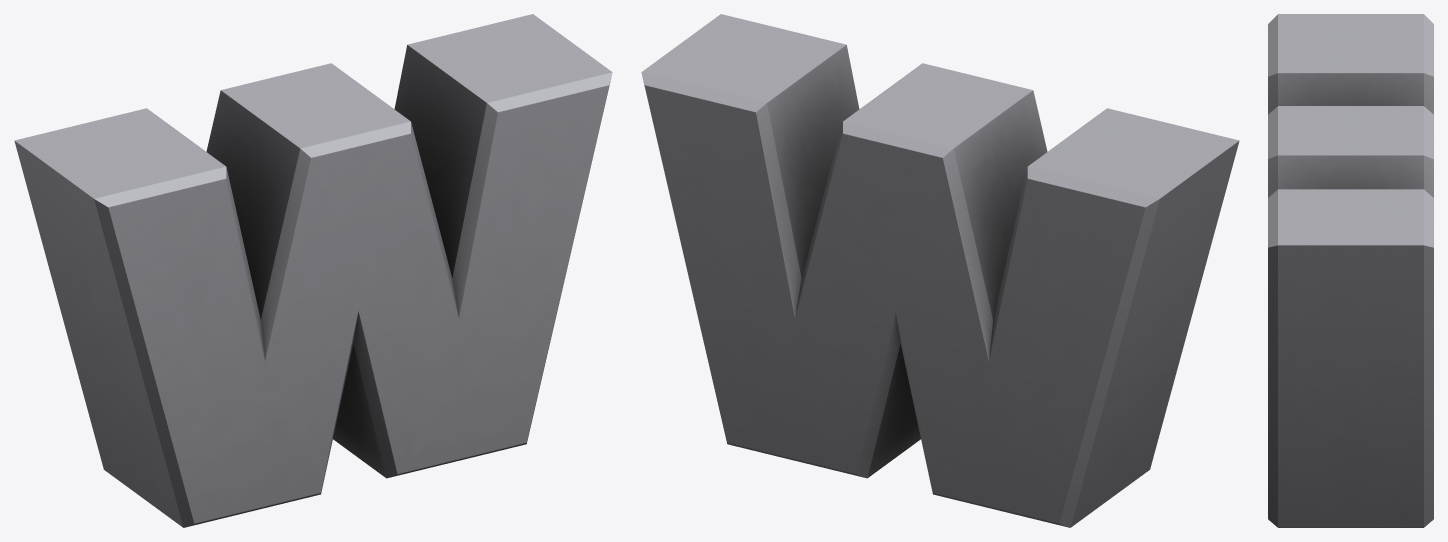
Rendered from w_lowc_static.fbx.
3 views of the same model, side by side, from view 1: azimuth 30°, elevation 25°; view 2: azimuth 150°, elevation 25°; view 3: azimuth 270°, elevation 25° (orthographic). The views are drawn at different scales.
Visible parts, largest first — view 1: w_lowc_static; view 2: w_lowc_static; view 3: w_lowc_static.
Part boxes in pixels (box(x1,y1,x2,y2)): w_lowc_static: box(14, 14, 612, 527); w_lowc_static: box(641, 14, 1239, 527); w_lowc_static: box(1268, 14, 1433, 527).
Bounding box in the file's own units: 109 × 70.48 × 33.
